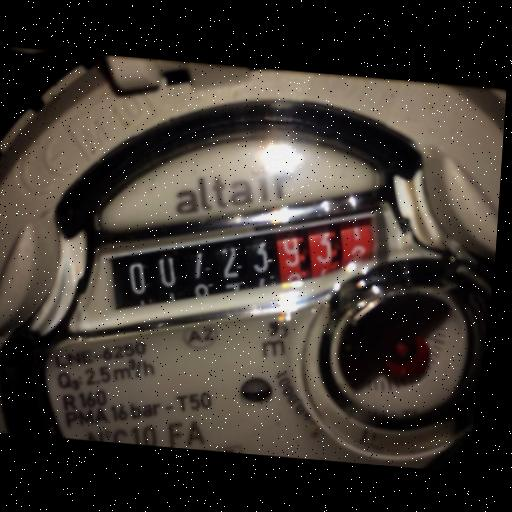0: (117, 250, 164, 309), (145, 246, 191, 304)
1: (330, 214, 379, 271)
2: (207, 235, 254, 295)
3: (235, 231, 283, 290), (299, 221, 345, 280)
7: (175, 239, 221, 301)
9: (267, 227, 313, 285)
border_water_meter_number: (46, 162, 458, 368)
